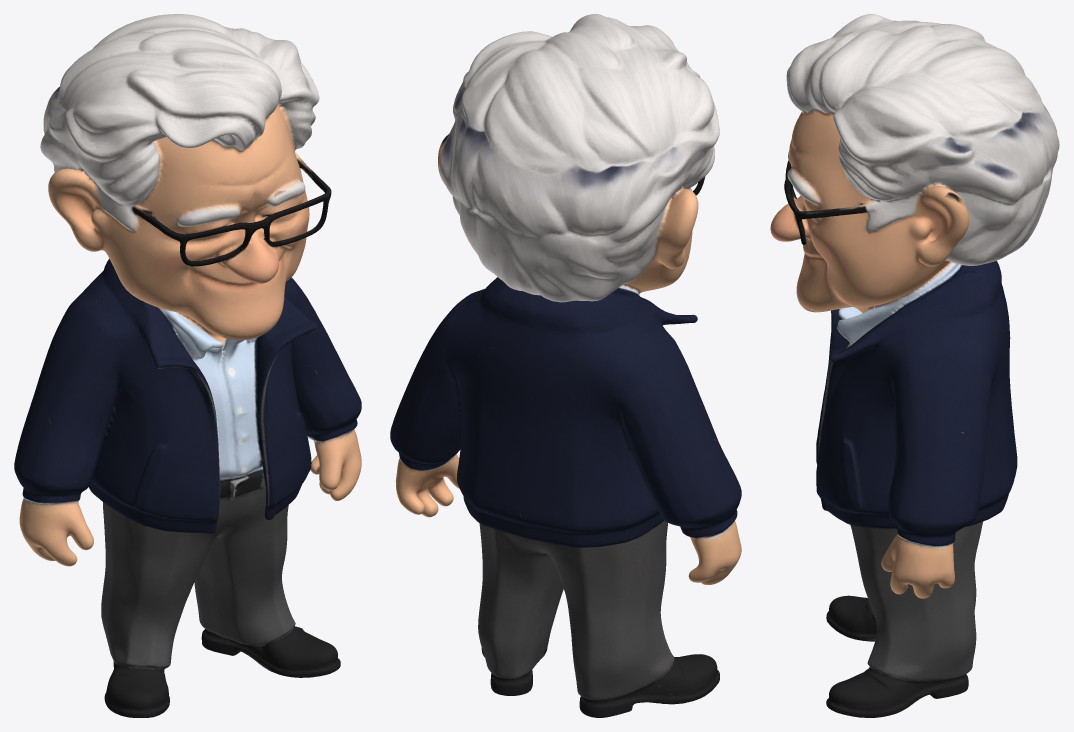
The model's file is school-marshal-meshy-source.glb.
3 renders of one model, left to right at view 1: azimuth 30°, elevation 25°; view 2: azimuth 150°, elevation 25°; view 3: azimuth 270°, elevation 25°, orthographic. The views are drawn at different scales.
Size of the model in its own units: 1.04 by 1.9 by 0.7953.
1 material, 1 textured.
